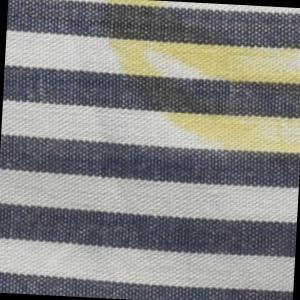Stain: (97, 1, 300, 167)
